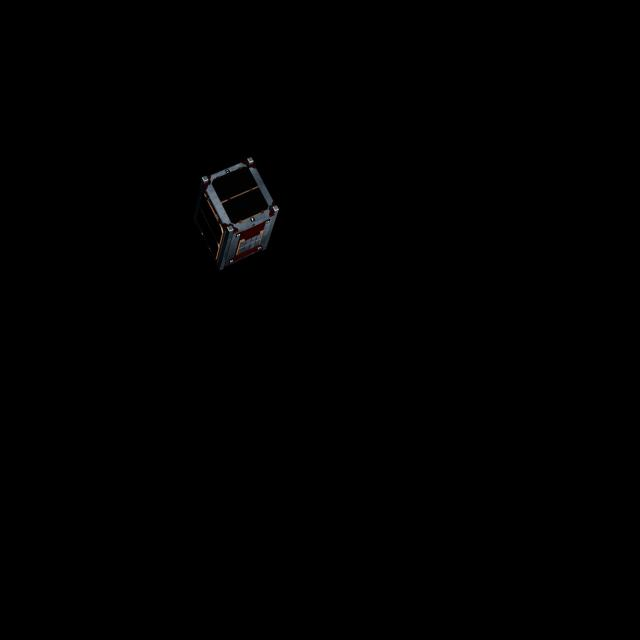medium_debris: (195, 148, 282, 275)
